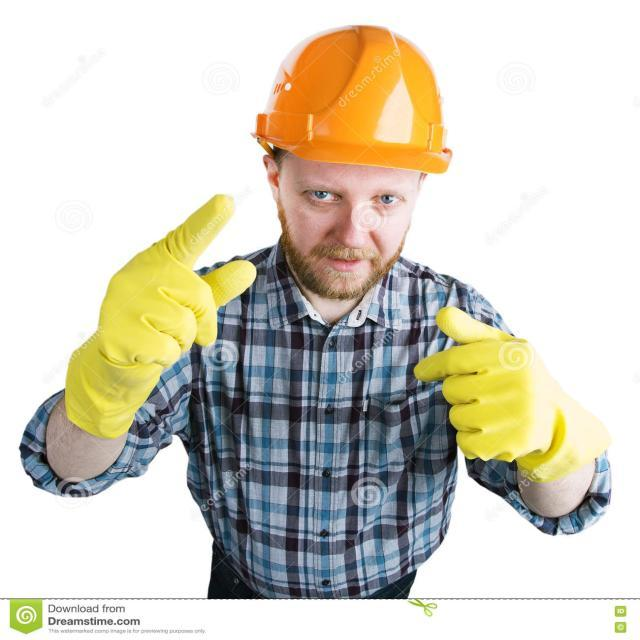helmet: (233, 0, 477, 199)
